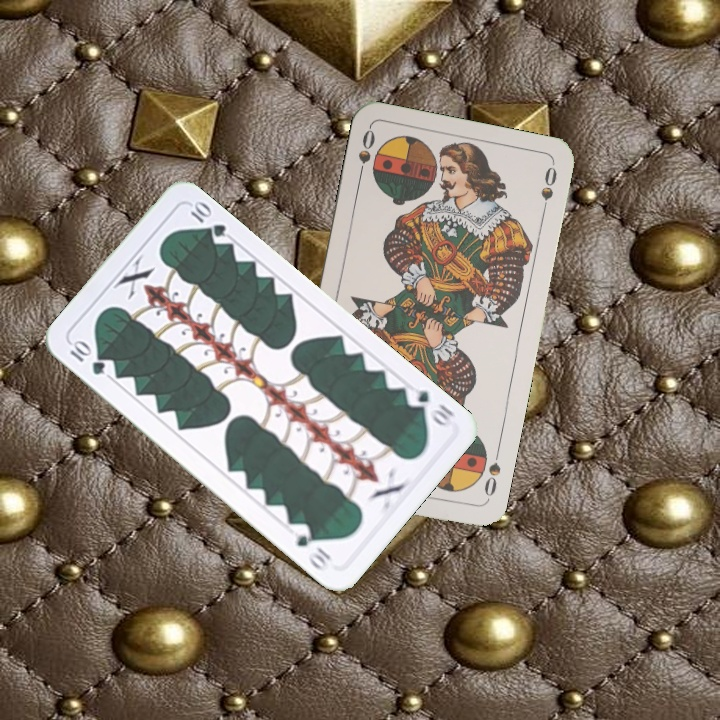G10: (401, 382, 457, 431), (66, 336, 108, 378)
SO: (354, 125, 378, 184), (480, 458, 503, 505)
